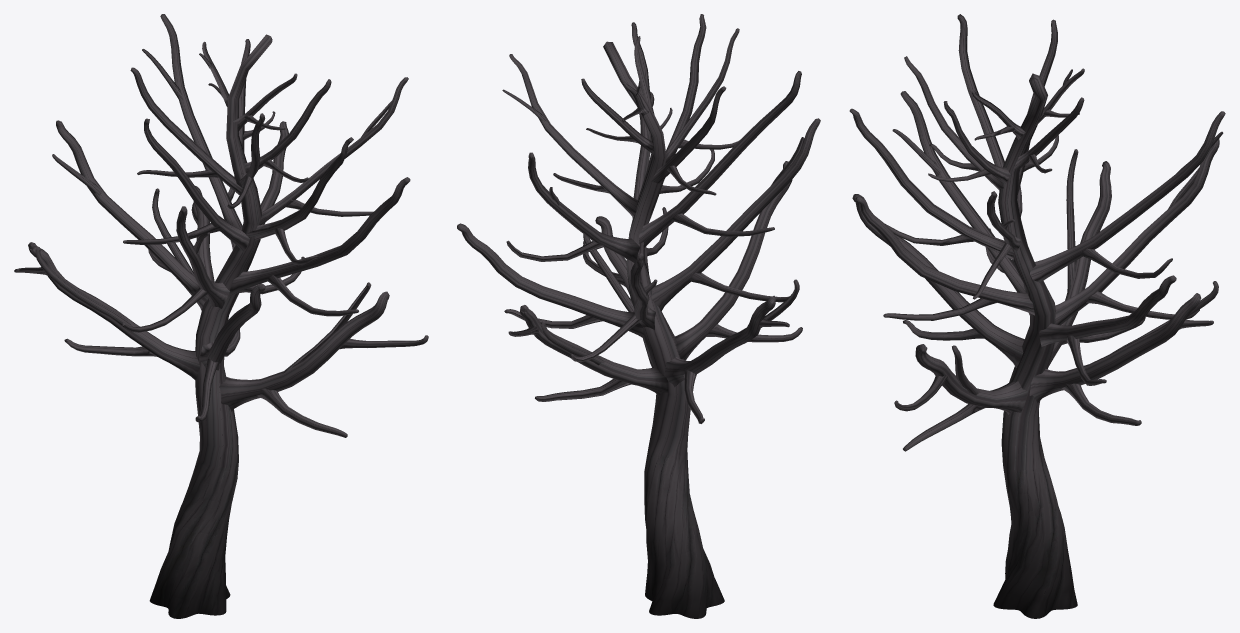
Rendered from dead_deadtree_1.glb.
3 views of the same model, side by side, from view 1: azimuth 30°, elevation 25°; view 2: azimuth 150°, elevation 25°; view 3: azimuth 270°, elevation 25° (orthographic). The views are drawn at different scales.
Visible parts, largest first — view 1: DeadTree_1; view 2: DeadTree_1; view 3: DeadTree_1.
Boxes of the visible parts, x1,y1,x2,y2 form: DeadTree_1: (14, 14, 428, 618); DeadTree_1: (457, 14, 820, 618); DeadTree_1: (849, 14, 1225, 618).
Bounding box in the file's own units: 3.89 × 6 × 3.63.
Materials: 1 (1 with a texture image).
